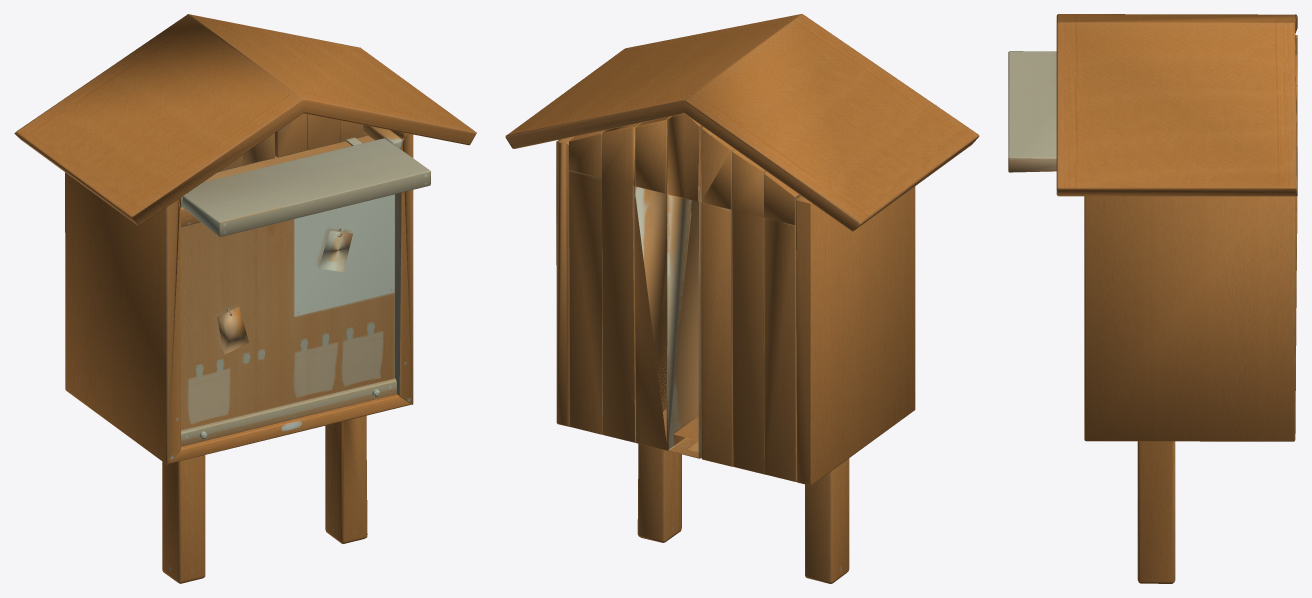
File: notice_board.glb
3 renders of one model, left to right at view 1: azimuth 30°, elevation 25°; view 2: azimuth 150°, elevation 25°; view 3: azimuth 270°, elevation 25°, orthographic. The views are drawn at different scales.
Parts seen in each view (by area): view 1: notice_board; view 2: notice_board; view 3: notice_board.
Part boxes in pixels (box(x1,y1,x2,y2)): notice_board: box(14, 14, 476, 583); notice_board: box(505, 14, 979, 583); notice_board: box(1008, 14, 1297, 583).
Size of the model in its own units: 1.25 by 1.7 by 0.8744.
1 material, 1 textured.
